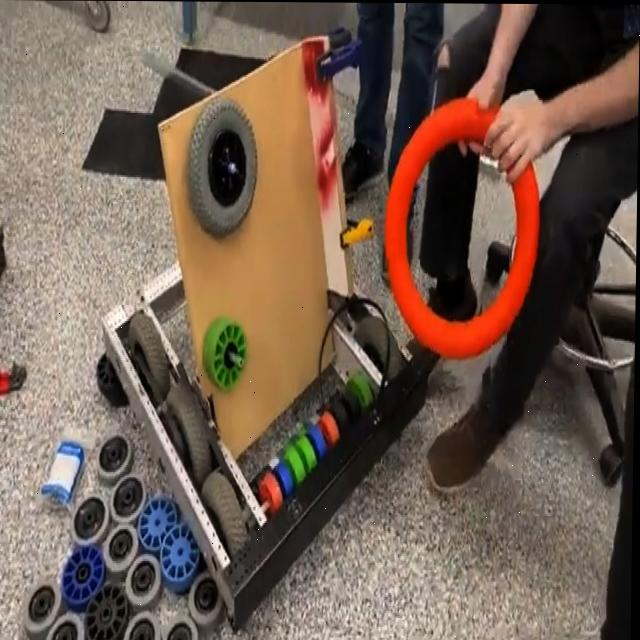note: (381, 92, 544, 363)
